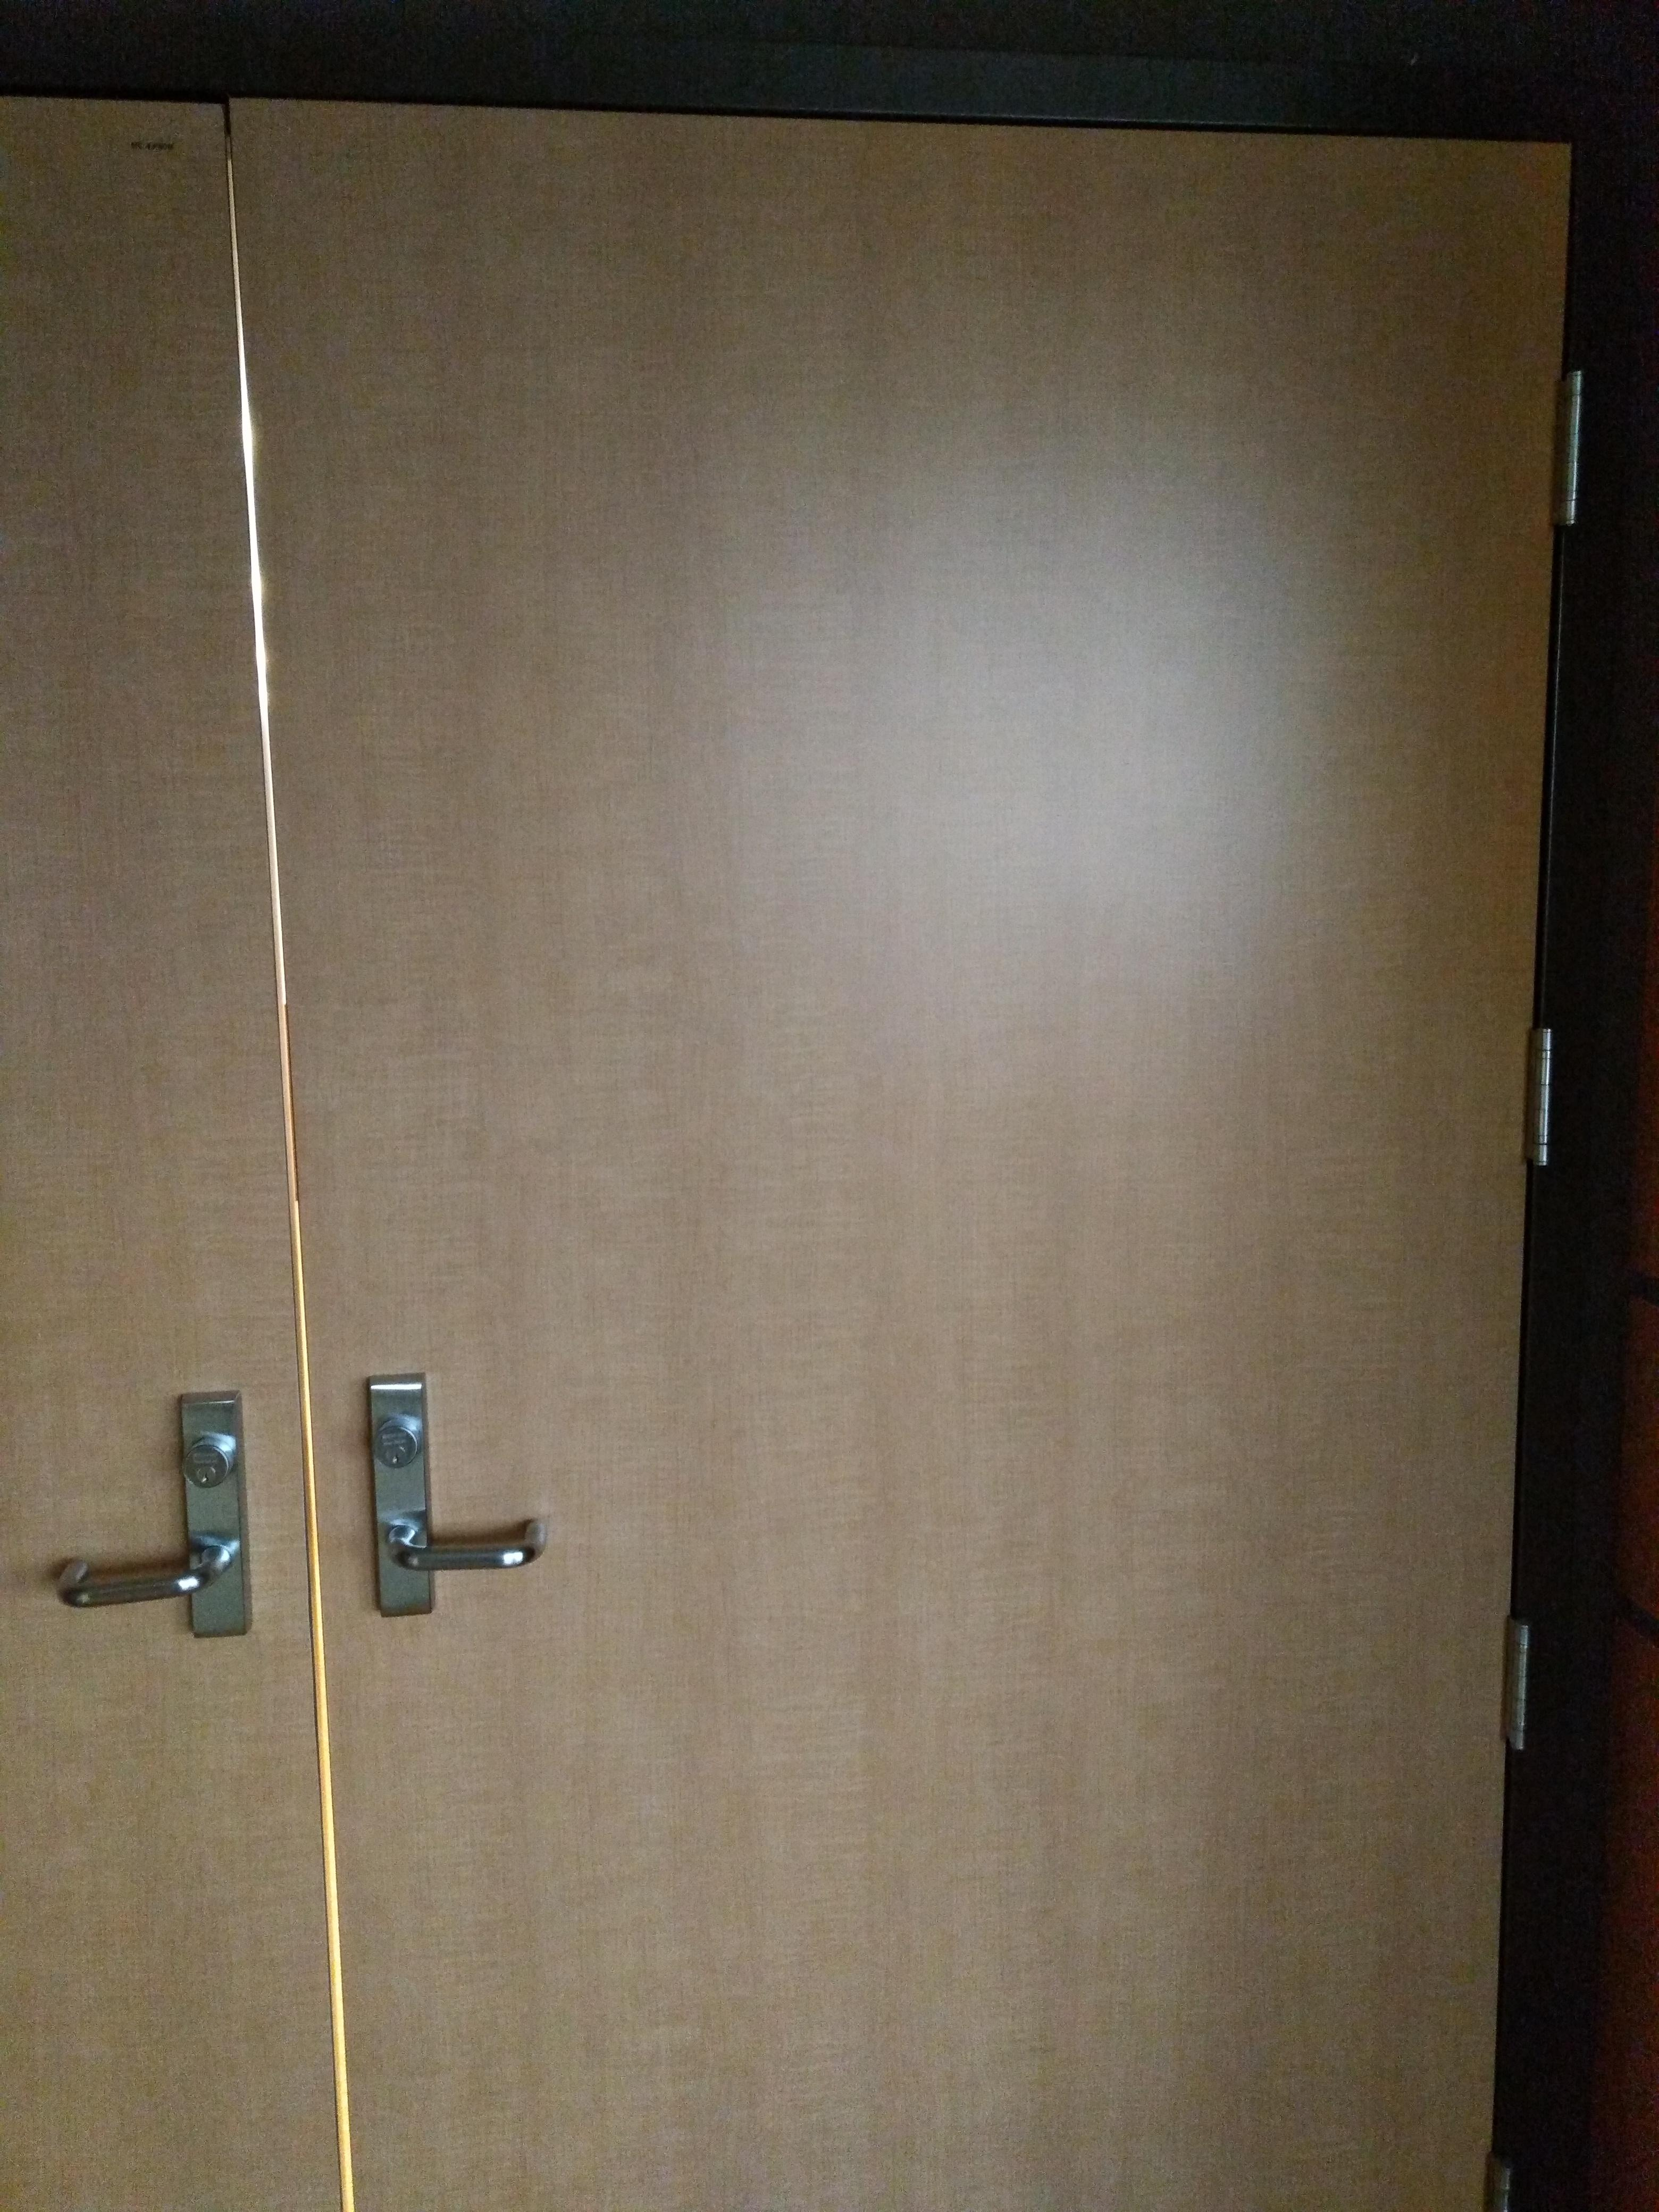door: (0, 117, 1631, 2146)
